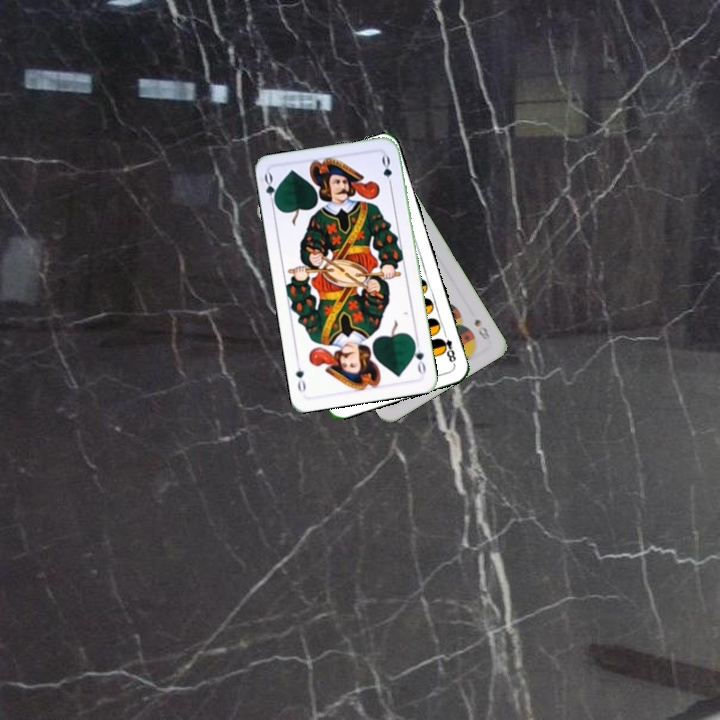E8: (435, 327, 458, 367)
GO: (260, 169, 280, 210), (409, 337, 428, 377)
S8: (470, 315, 493, 343)
